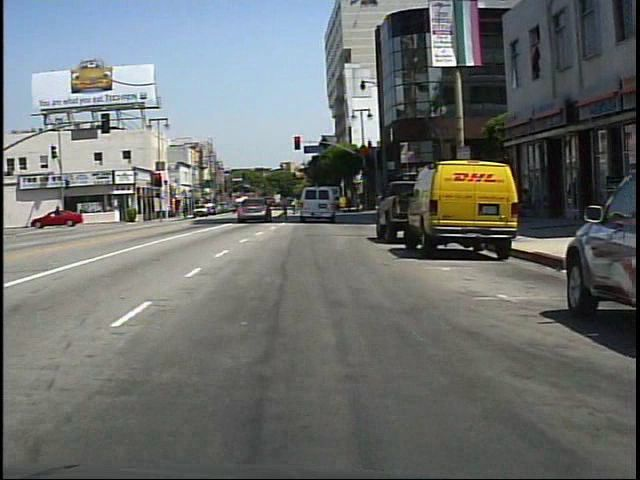person: (514, 182, 538, 224), (275, 192, 293, 223), (52, 203, 68, 231), (288, 196, 299, 218)
